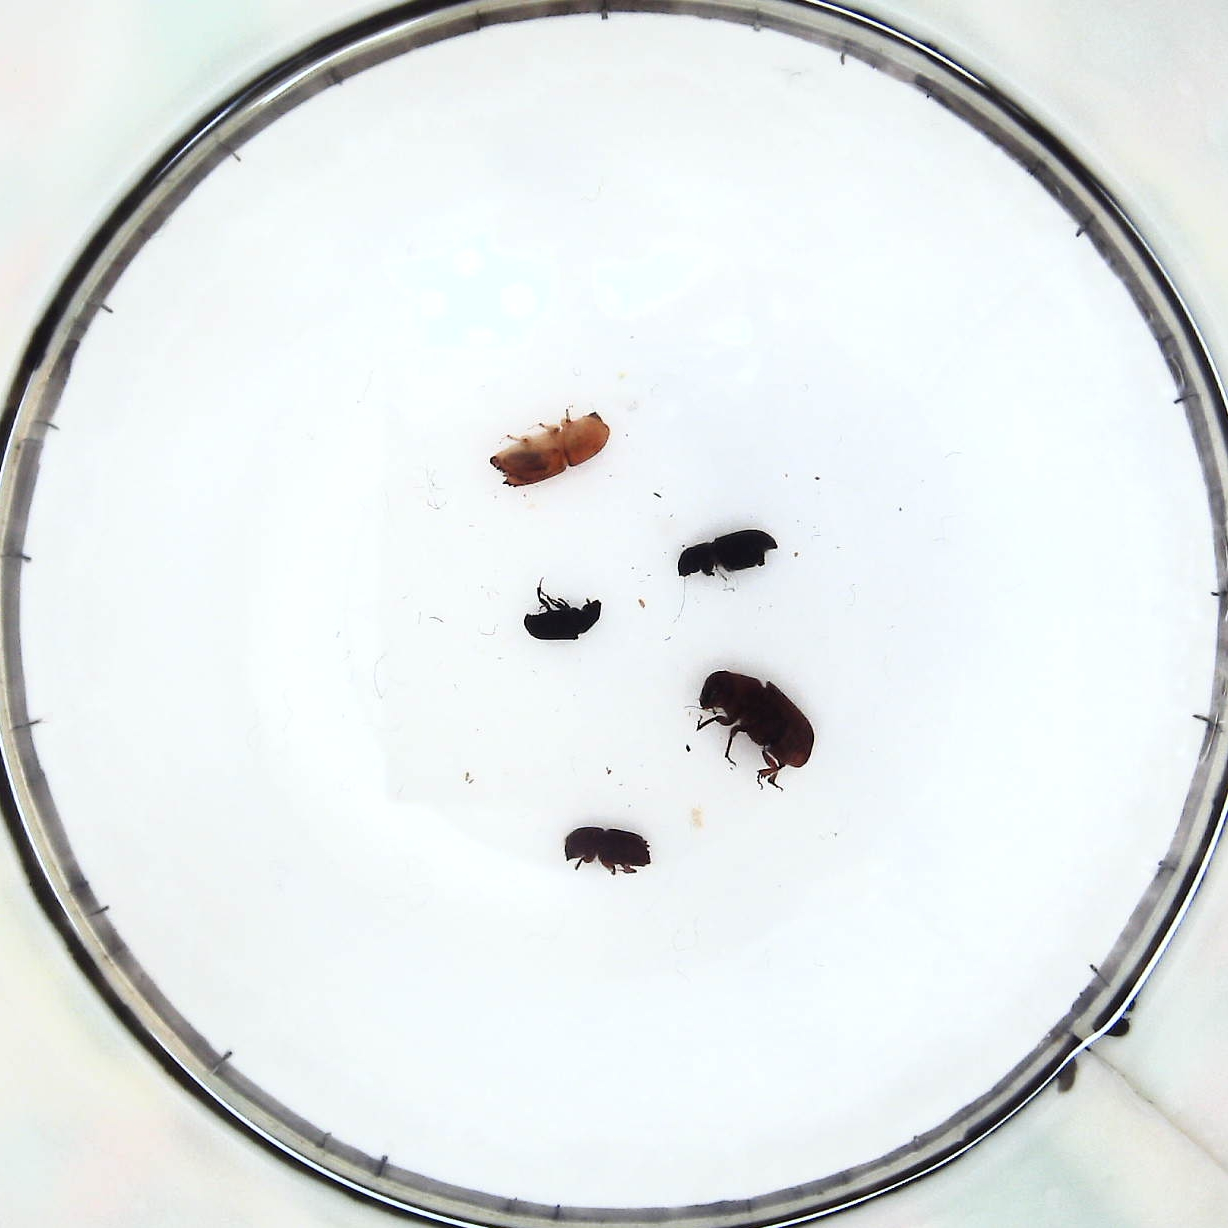Boerner: (490, 412, 611, 486)
Leconte: (702, 666, 814, 775)
Linnaeus: (565, 822, 652, 876)
armandi: (678, 529, 774, 579)
coleoptera: (523, 601, 604, 642)
